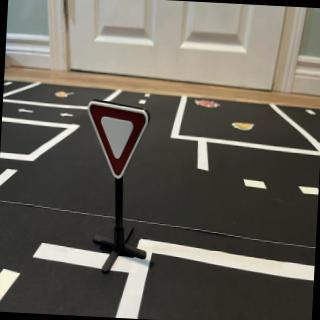road_oneway: (58, 110, 79, 121), (17, 107, 37, 117)
sign_yield: (85, 102, 151, 180)
